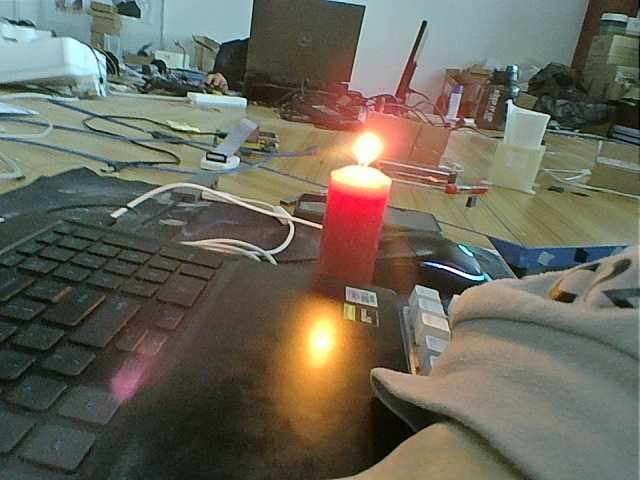candle: (313, 169, 400, 297)
fire: (344, 133, 388, 183)
